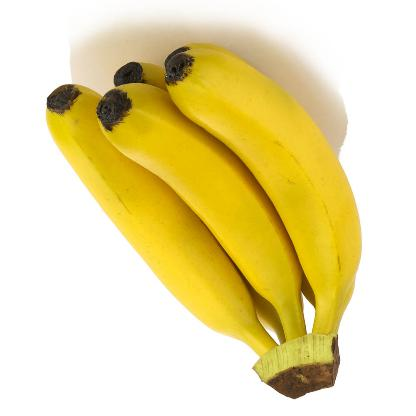banana: (45, 86, 295, 398), (165, 43, 359, 385), (98, 83, 312, 392)
